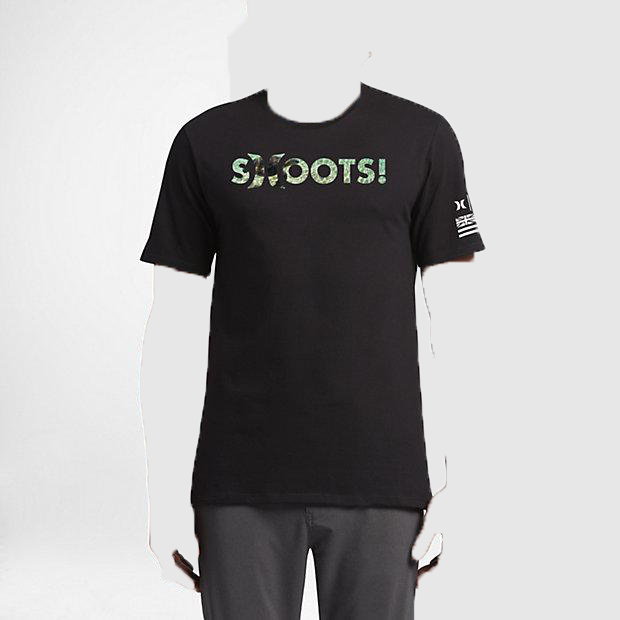teeshirt: (138, 82, 488, 512)
